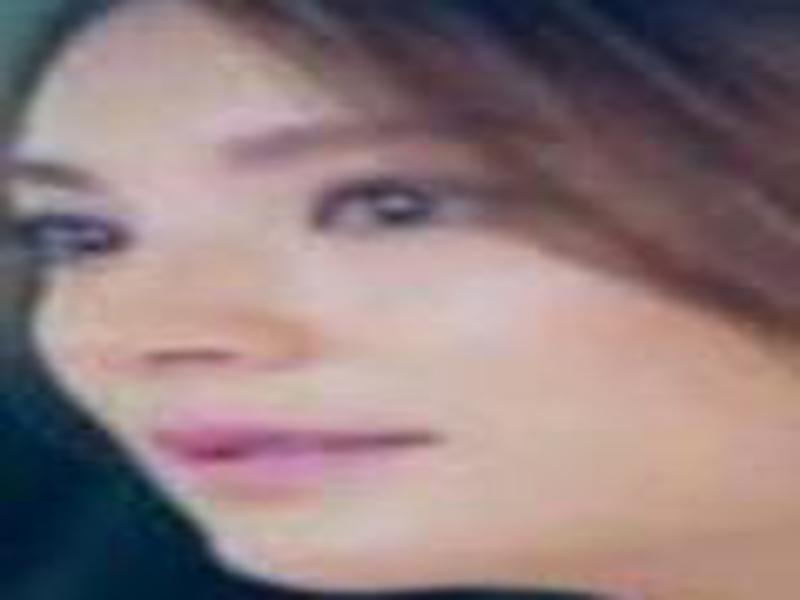without_mask: (12, 82, 751, 584)
